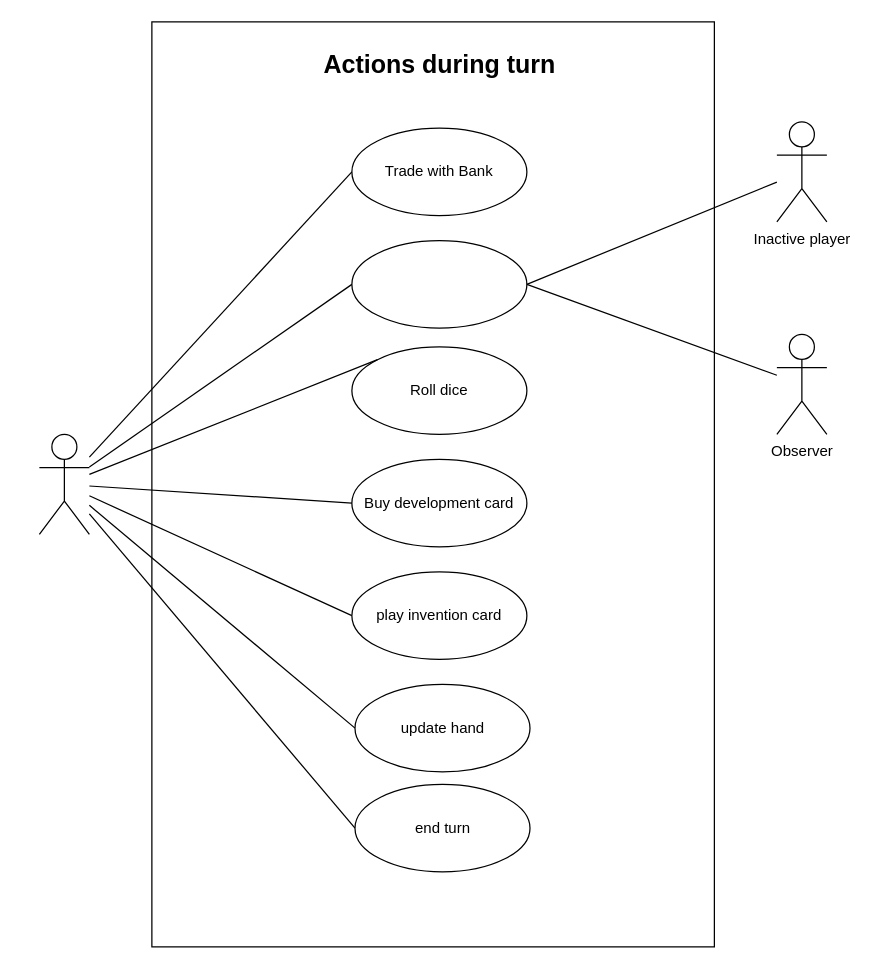
Image size: 871x969. Some labels were removed from this diagram. Each missing label, with the centre of its shape:
"Active player" goes at pixel 63 483.
"View board" goes at pixel 439 283.
